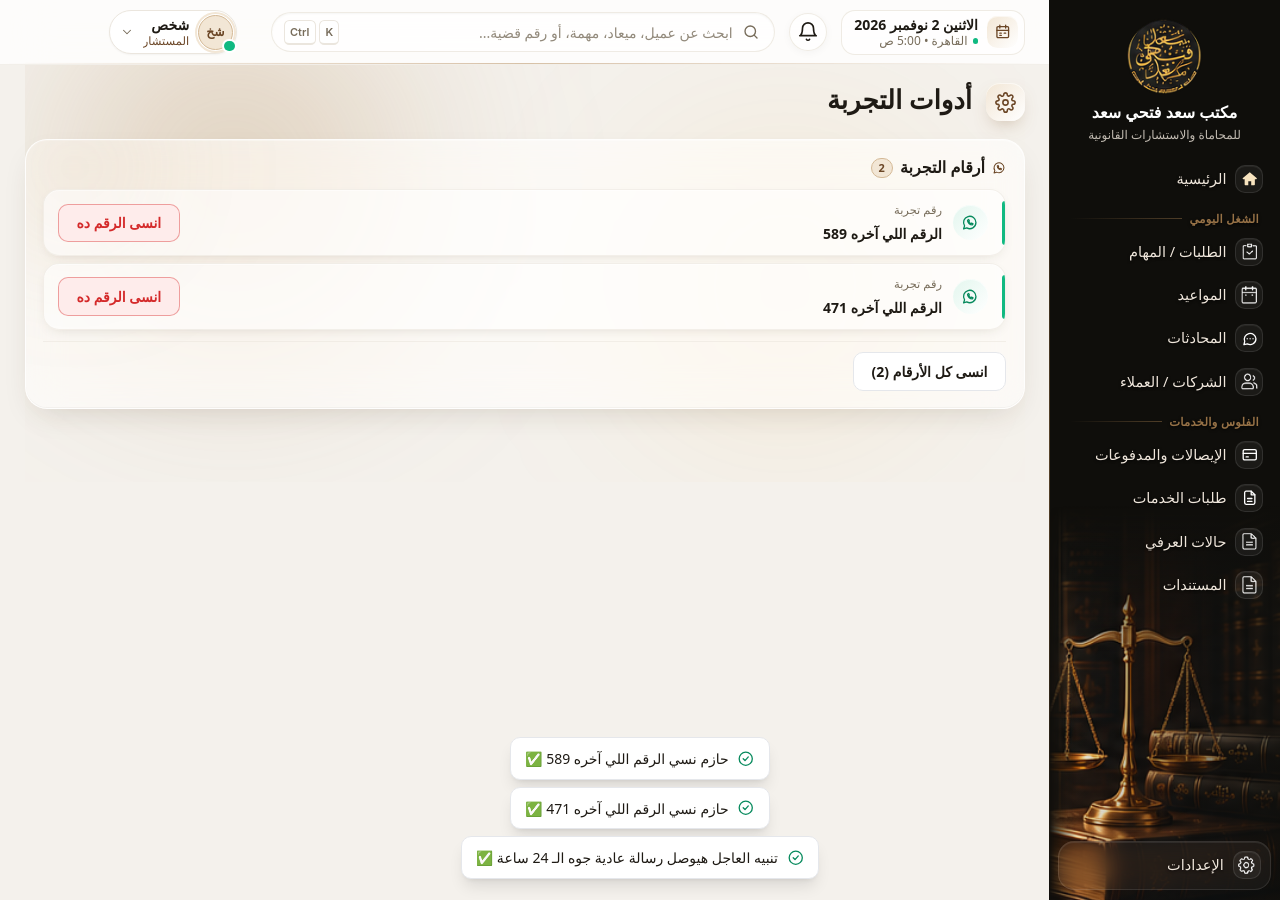
Test: أدوات التجربة › forgetting both: when the second fails, says which went and which did not, and asks for the list again
The image size is (1280, 900).
Click the button "انسى كل الأرقام (2)" at (930, 371), box [853,352,1006,391]
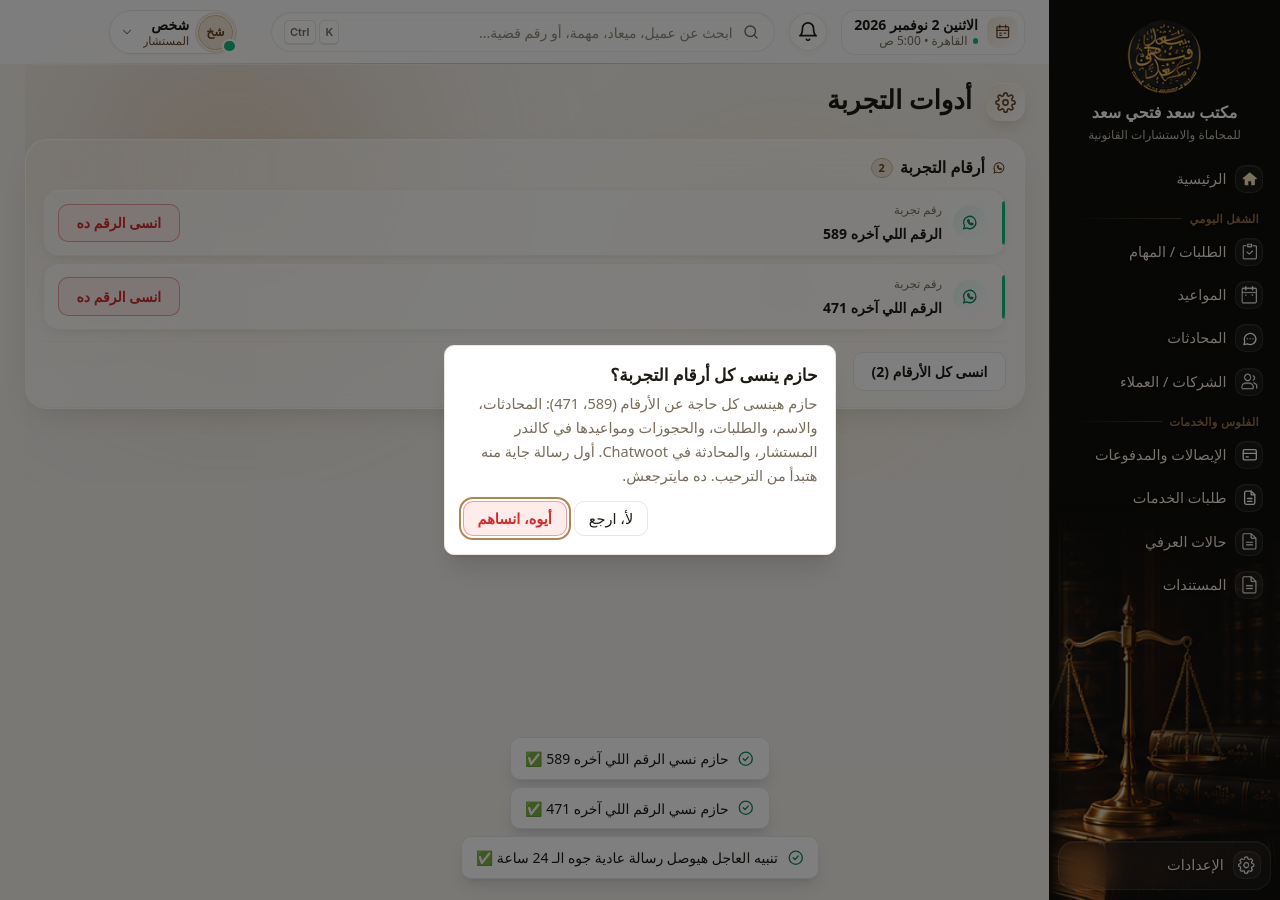
Click the button "أيوه، انساهم" at (515, 519), box [462,501,567,536]
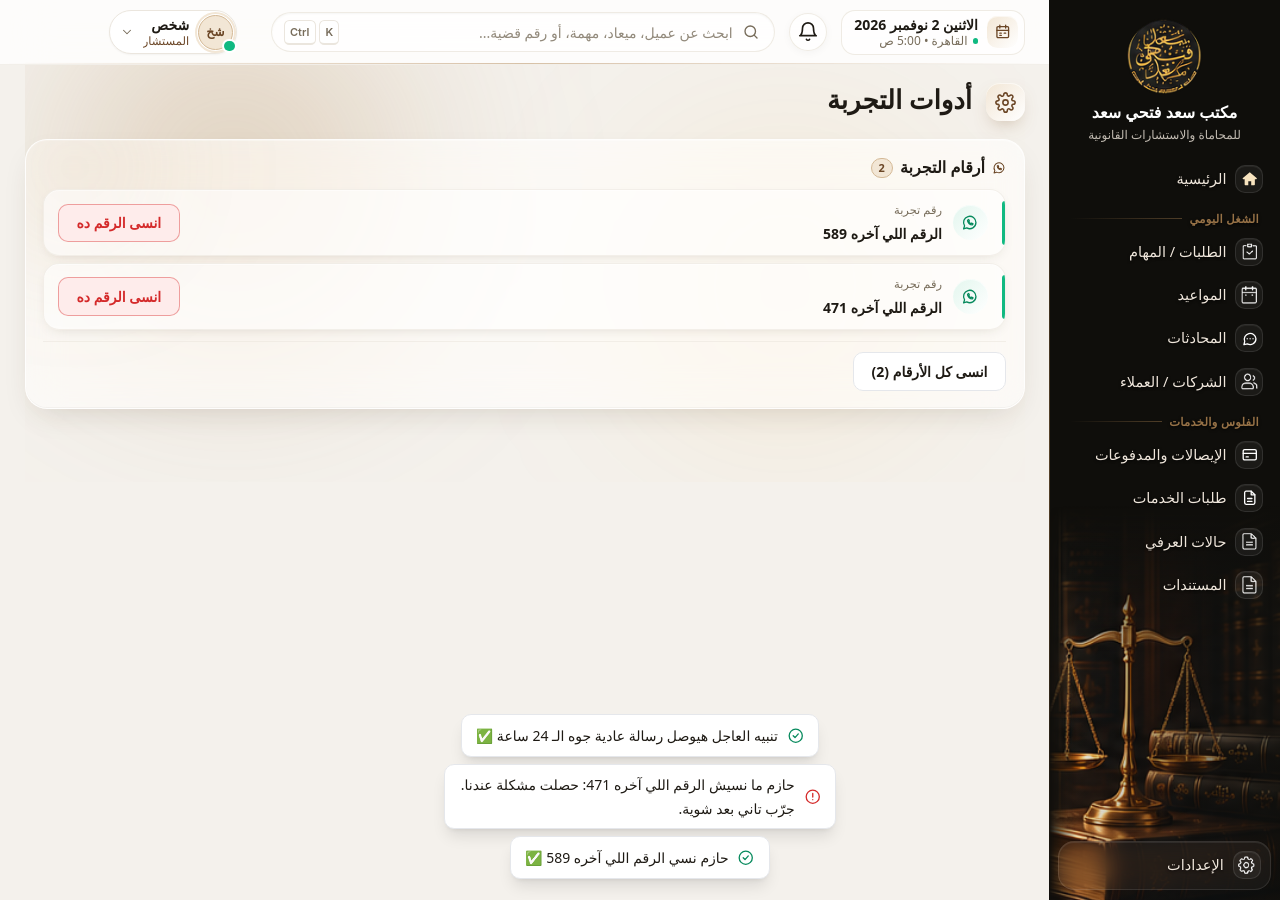
Check: the text "حازم نسي الرقم اللي آخره 589 ✅" is shown, box [510,836,770,879]
Check: the text "حازم ما نسيش الرقم اللي آخره 471" is shown, box [461,776,795,818]
